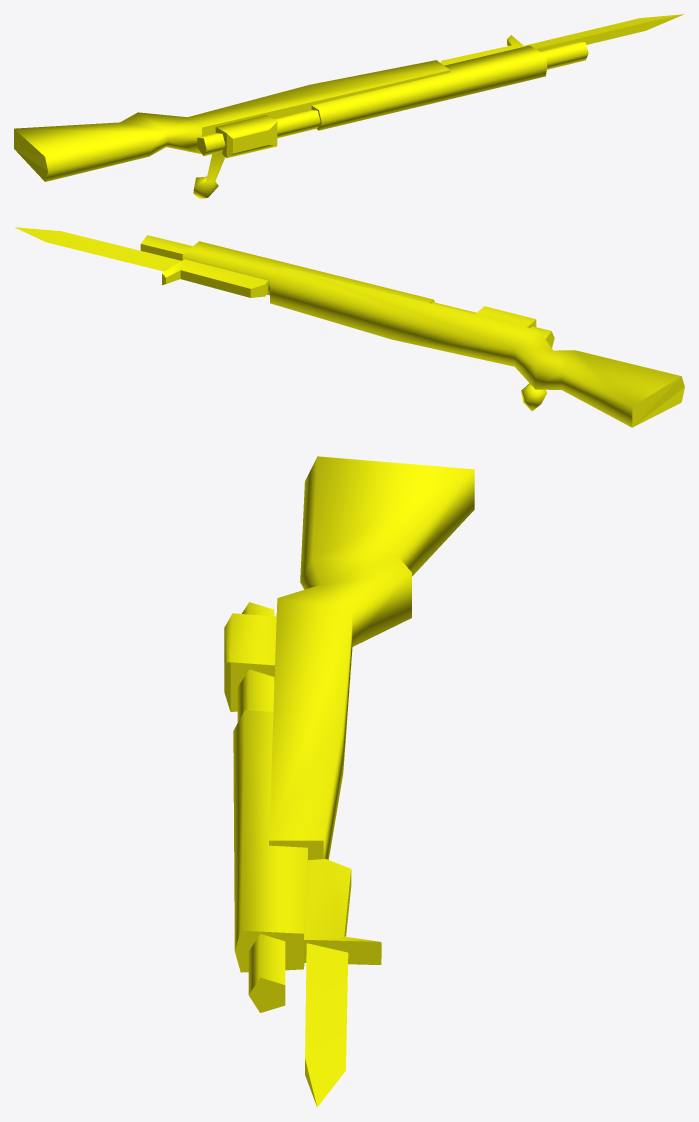
File: weapon_springfield_bayonet.glb
The picture shows the model from 3 angles, top to bottom: view 1: azimuth 30°, elevation 25°; view 2: azimuth 150°, elevation 25°; view 3: azimuth 270°, elevation 25°; orthographic projection. The views are drawn at different scales.
Parts seen in each view (by area): view 1: weapon_springfield_bayonet; view 2: weapon_springfield_bayonet; view 3: weapon_springfield_bayonet.
Part boxes in pixels (x1=…): weapon_springfield_bayonet: x1=14, y1=14, x2=684, y2=198; weapon_springfield_bayonet: x1=15, y1=227, x2=684, y2=427; weapon_springfield_bayonet: x1=224, y1=456, x2=474, y2=1107.
Bounding box in the file's own units: 2.34 × 0.2642 × 0.3967.
Materials: 1 (1 with a texture image).
